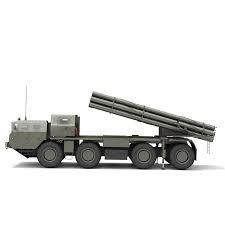MIL_SAM_TEL: (9, 91, 216, 174)
